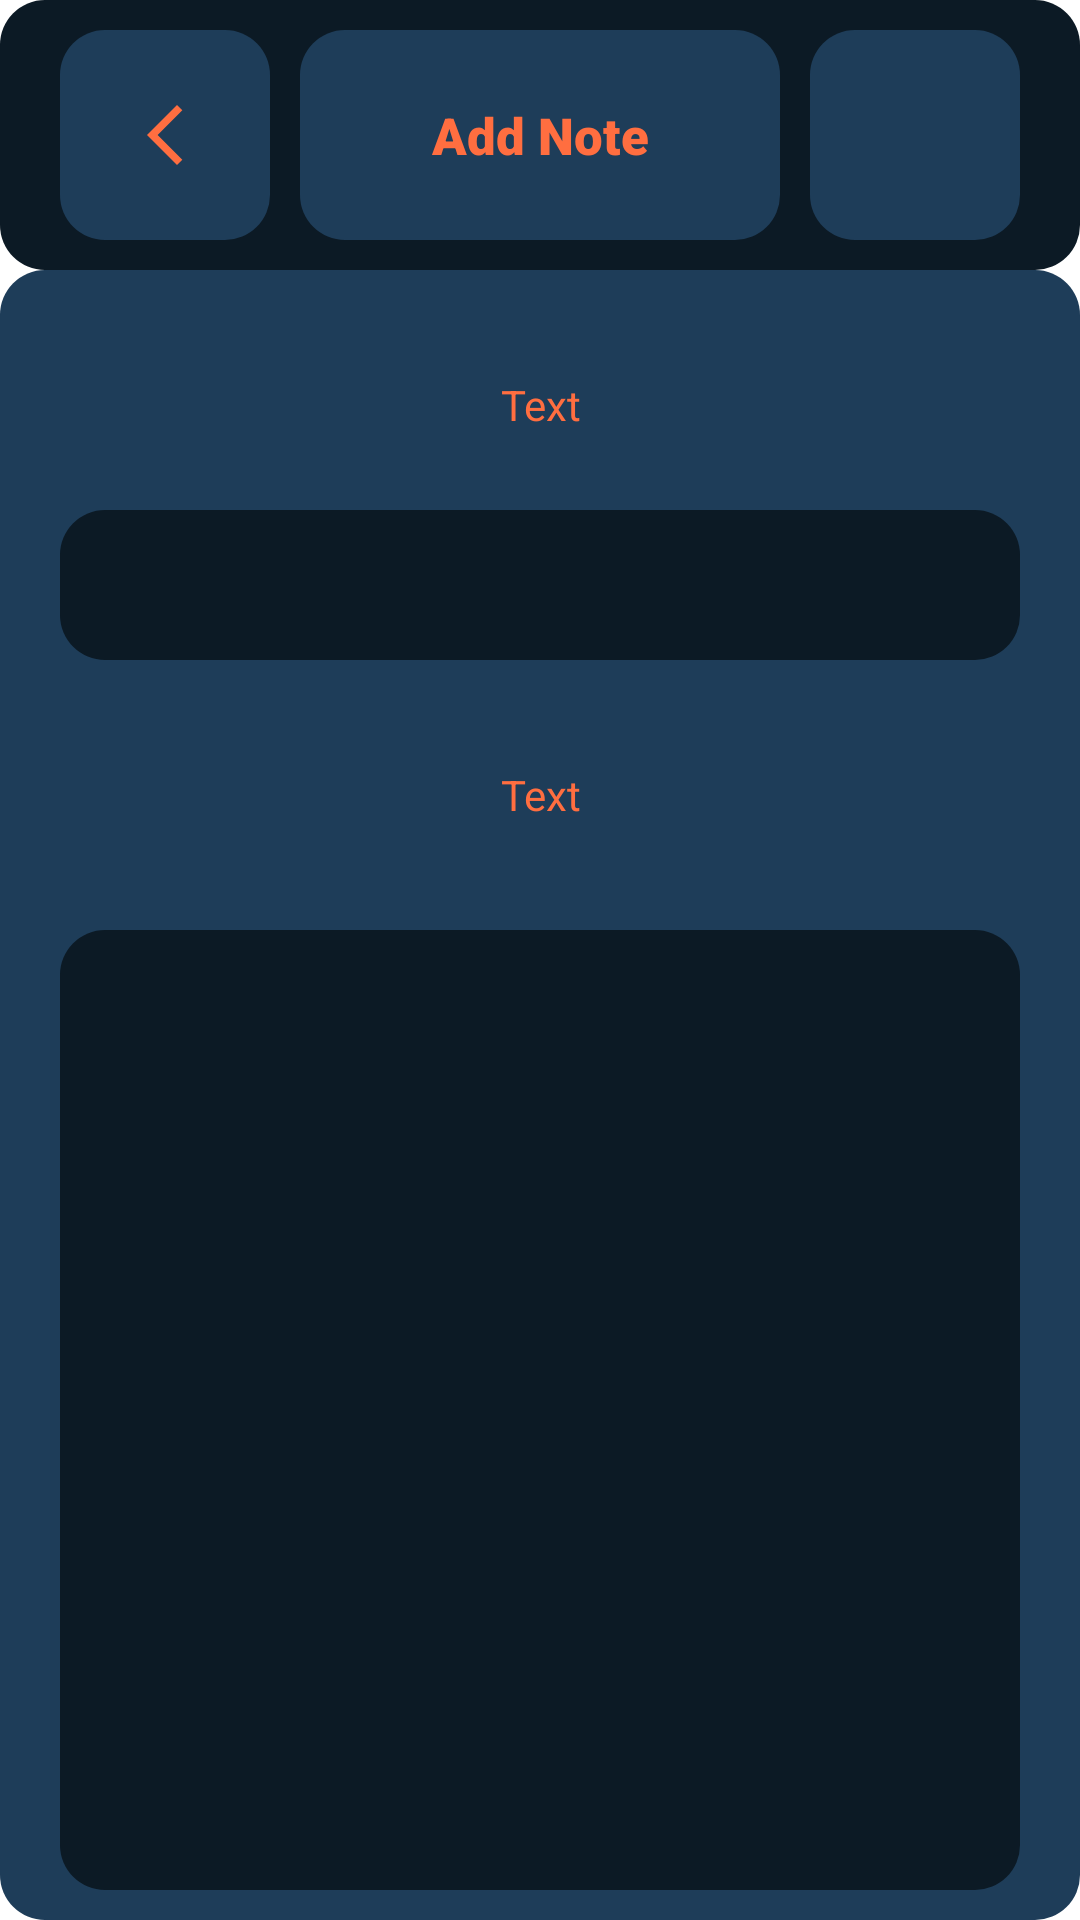

Icon click points for this 1080w x 1920h phone screenshot, format (x=x, y=y):
back: (x=165, y=135)
